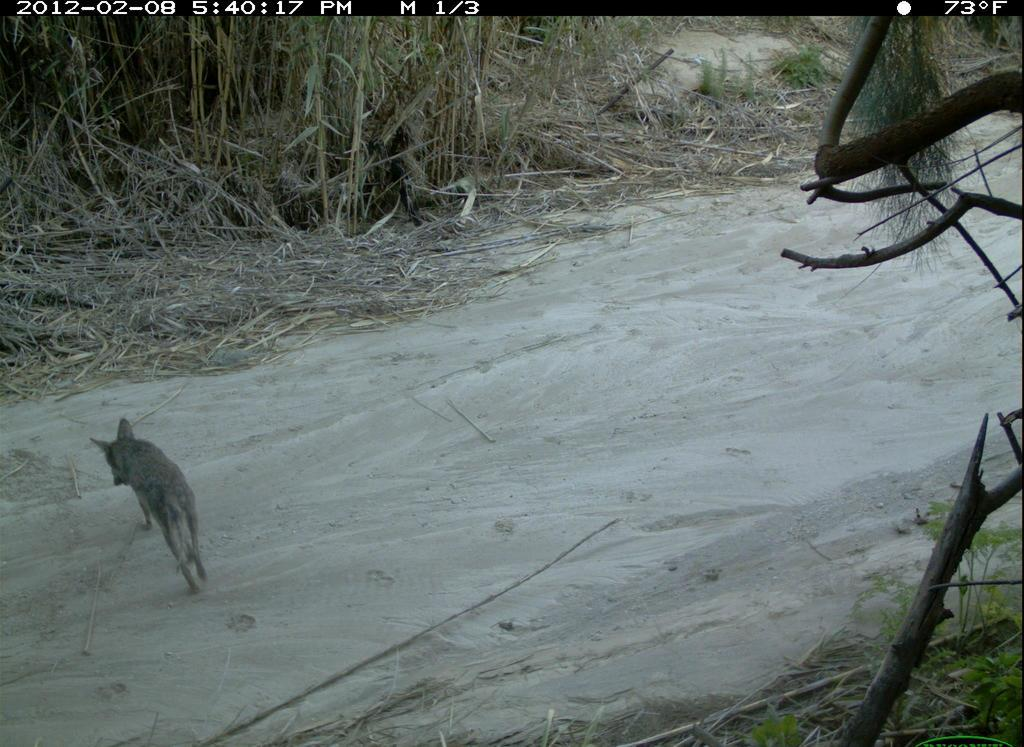coyote: (67, 393, 253, 602)
